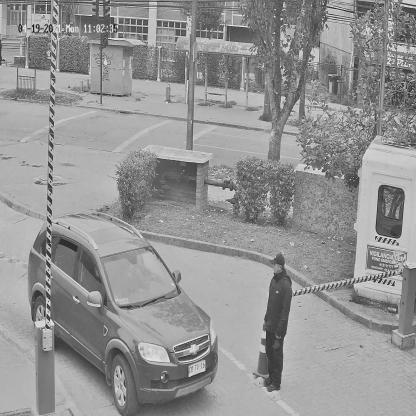Patente: (187, 360, 207, 379)
